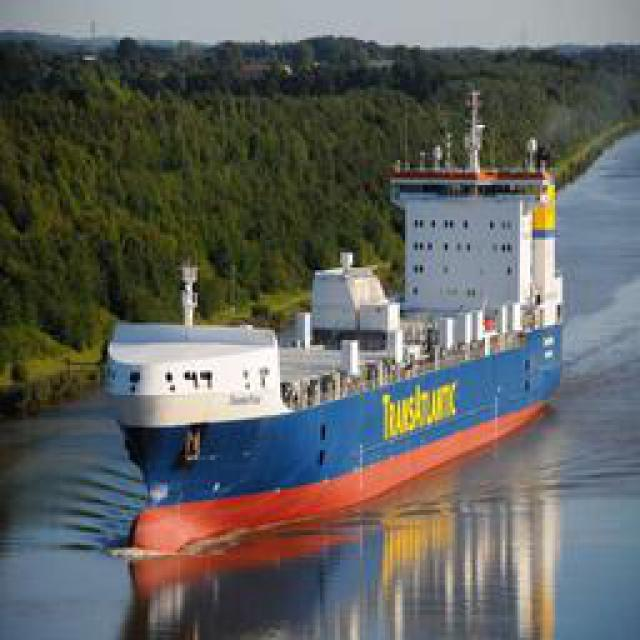Ship: (111, 116, 574, 596)
